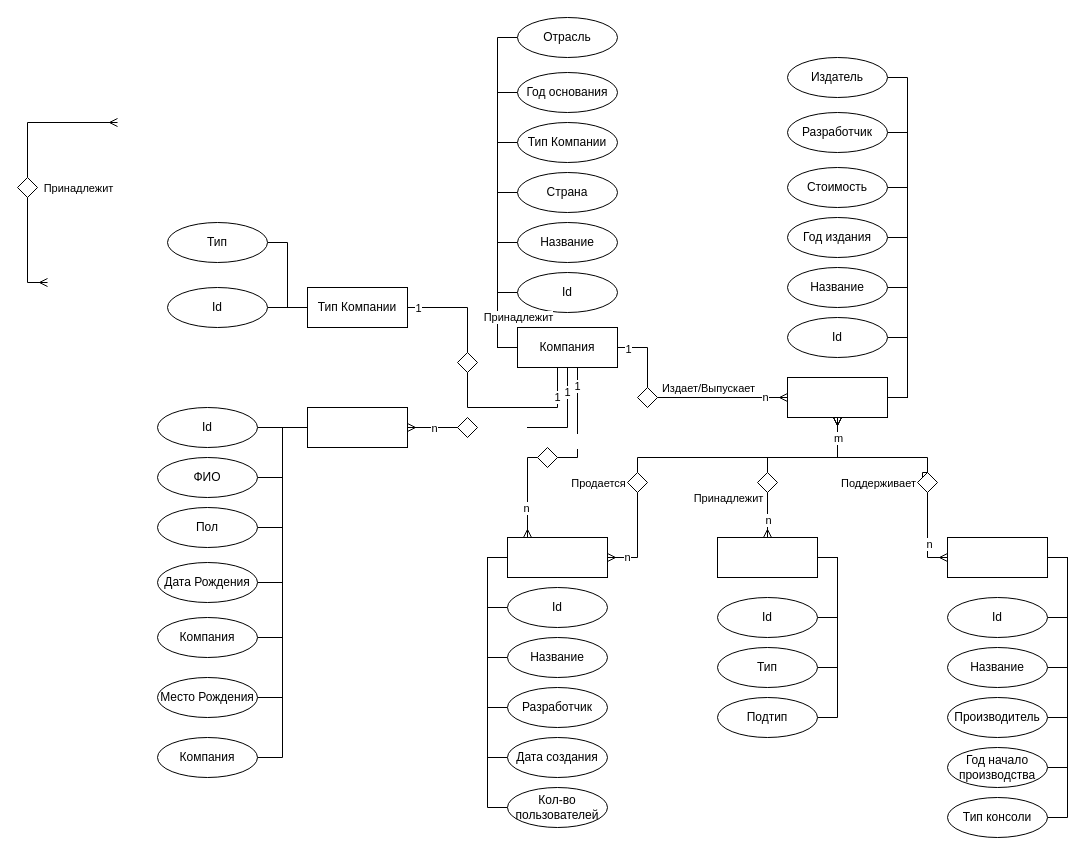
This 1086x855 diagram has some shape labels left out. The centre of each missing label's shape, as x and y in pixels:
"Жанр" belongs at (767,557).
"Игра" belongs at (837,397).
"Платформа" belongs at (997,557).
"Сотрудники" belongs at (357,427).
"Торговая площадка" belongs at (557,557).
